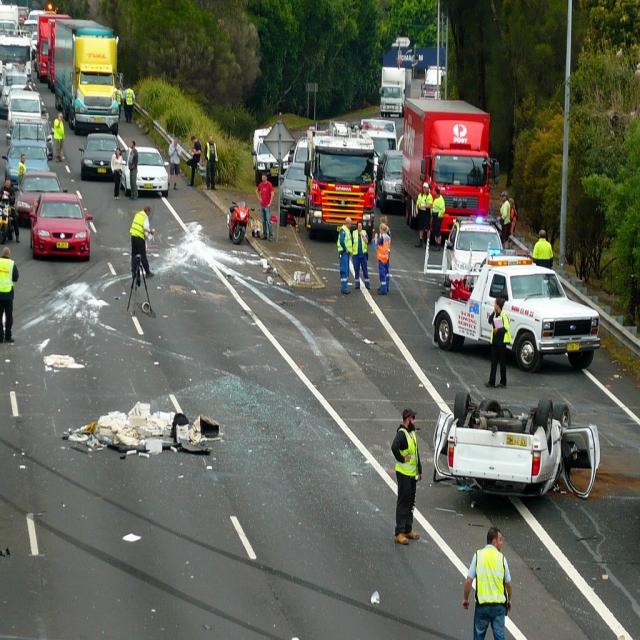accident: (434, 392, 599, 498)
car: (31, 193, 92, 259), (445, 218, 501, 272), (15, 172, 62, 222), (79, 133, 119, 179), (138, 147, 169, 197)
motorcycle: (228, 202, 250, 245)
truck: (431, 257, 600, 371), (401, 100, 499, 233), (304, 127, 375, 237), (54, 20, 120, 133)
